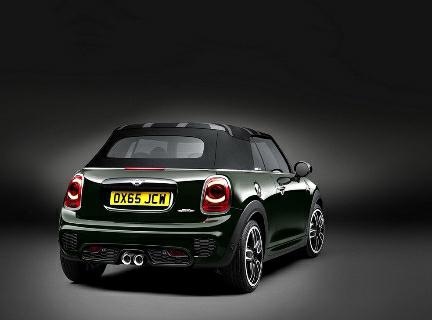MINI-JCW: (55, 117, 326, 296)
